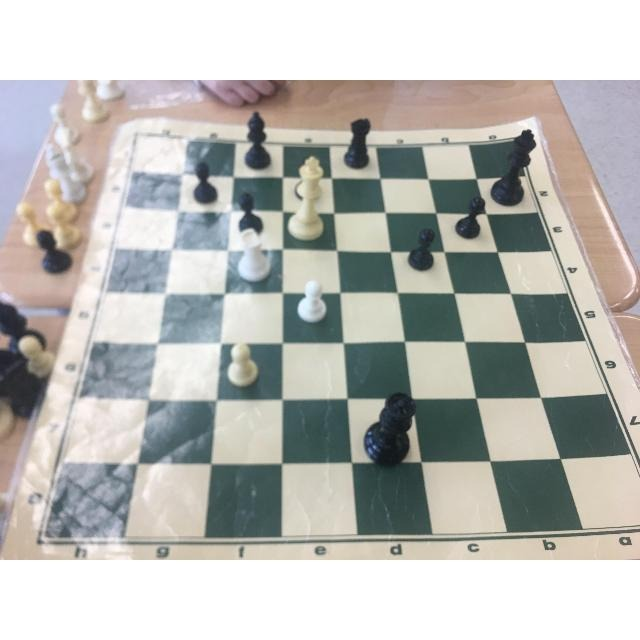black-bishop: (235, 112, 273, 168)
black-king: (490, 128, 551, 204)
black-pawn: (403, 223, 441, 270), (450, 190, 488, 236), (236, 180, 267, 232), (189, 157, 222, 198)
black-queen: (356, 390, 430, 470)
black-rook: (337, 112, 383, 168)
white-king: (283, 154, 333, 240)
white-pawn: (218, 341, 267, 383), (293, 277, 331, 324)
white-rook: (233, 228, 269, 281)
